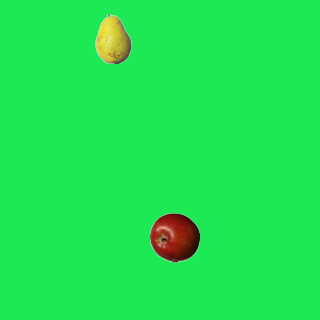Apple Braeburn: (149, 212, 199, 262)
Pear Monster: (88, 13, 138, 63)
